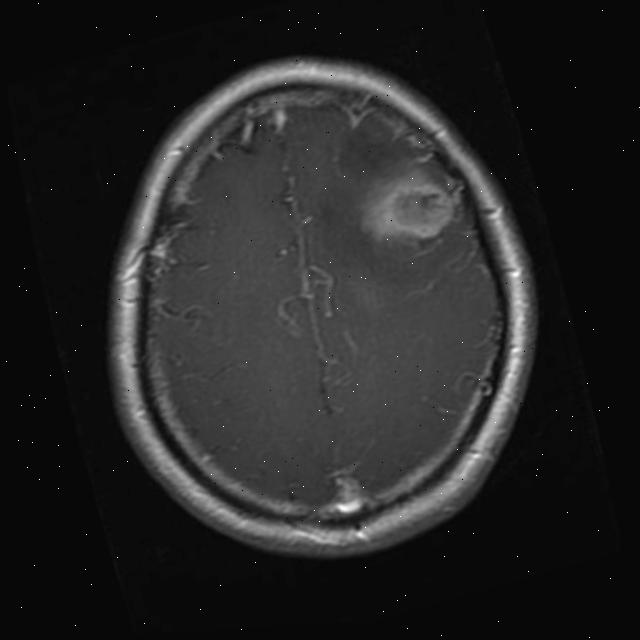Glioma: (351, 168, 462, 256)
